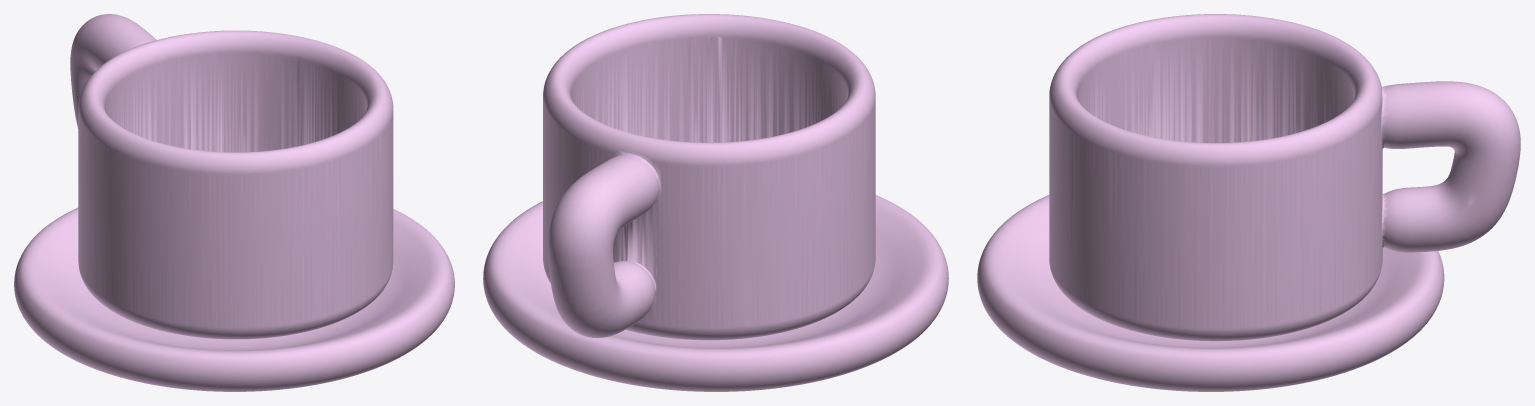
The model's file is cup.gltf.
The picture shows the model from 3 angles, left to right: view 1: azimuth 30°, elevation 25°; view 2: azimuth 150°, elevation 25°; view 3: azimuth 270°, elevation 25°; orthographic projection. The views are drawn at different scales.
Visible parts, largest first — view 1: Area (2); view 2: Area (2); view 3: Area (2).
Part boxes in pixels (<box>): Area (2): <box>14,14,454,391</box>; Area (2): <box>483,14,948,391</box>; Area (2): <box>977,14,1520,391</box>.
Bounding box in the file's own units: 210 × 111 × 244.
Materials: 1 (1 with a texture image).
